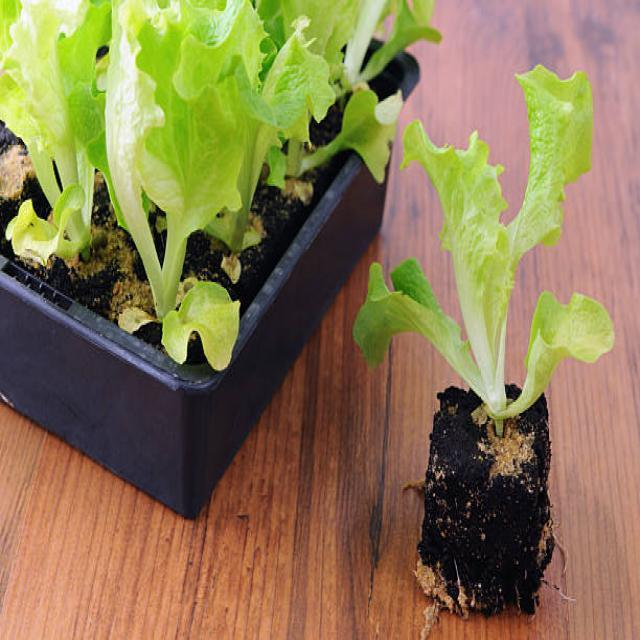Lettuce-Not-Ready-to-Harvest: (360, 67, 613, 421), (109, 0, 254, 378), (251, 0, 400, 220), (0, 0, 117, 274)
